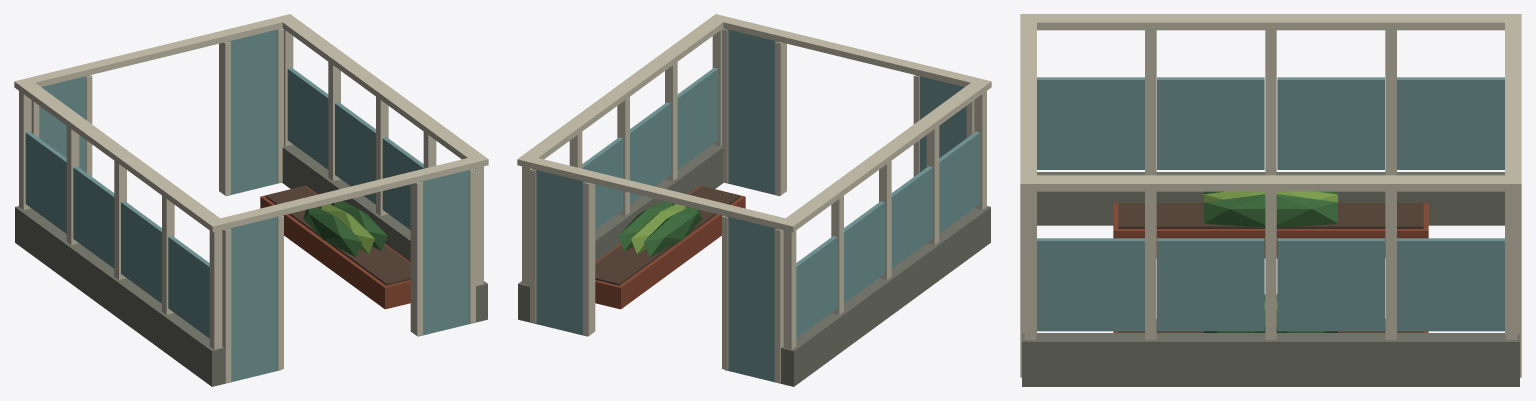
The model's file is Backyard_GreenhousePassage_Simple.glb.
The picture shows the model from 3 angles, left to right: view 1: azimuth 30°, elevation 25°; view 2: azimuth 150°, elevation 25°; view 3: azimuth 270°, elevation 25°; orthographic projection. The views are drawn at different scales.
Parts seen in each view (by area): view 1: Backyard_GreenhousePassage_Simple; view 2: Backyard_GreenhousePassage_Simple; view 3: Backyard_GreenhousePassage_Simple.
Part boxes in pixels (box(x1,y1,x2,y2)): Backyard_GreenhousePassage_Simple: box(14, 14, 488, 386); Backyard_GreenhousePassage_Simple: box(517, 14, 991, 386); Backyard_GreenhousePassage_Simple: box(1020, 14, 1521, 386).
Bounding box in the file's own units: 4.85 × 2.7 × 6.04.
